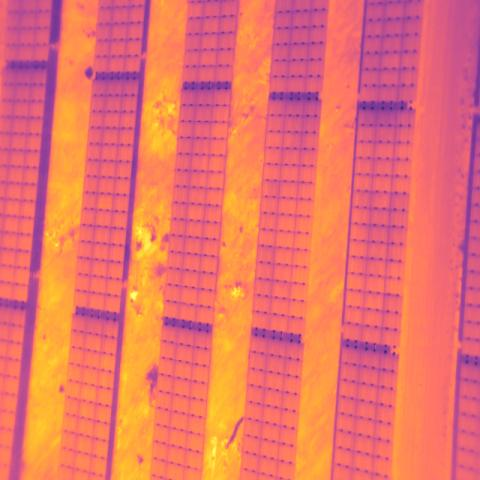fault: (97, 194, 113, 210)
